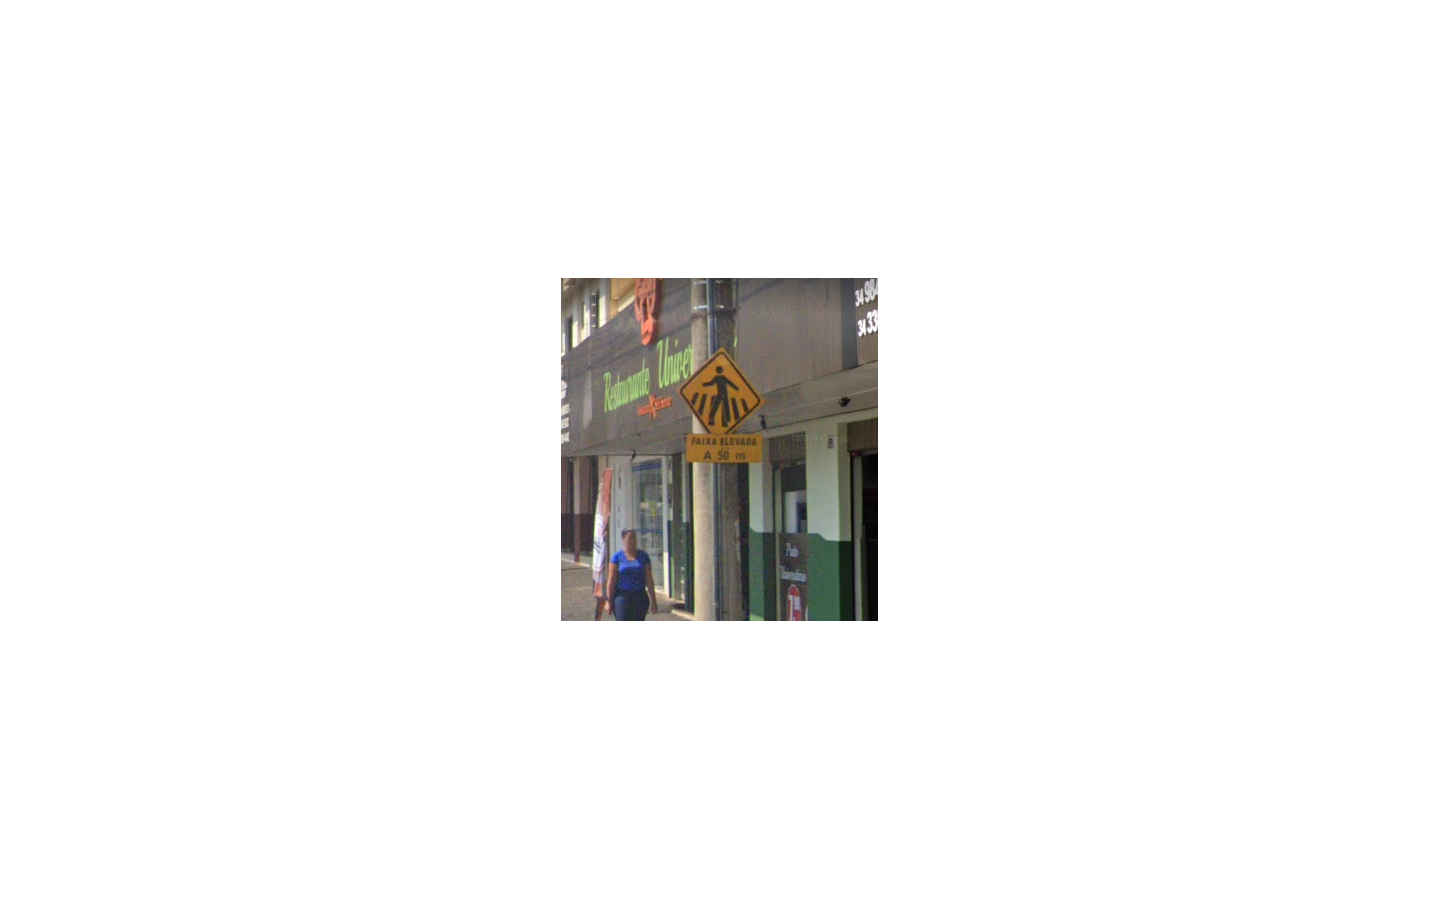t50m: (678, 347, 763, 463)
